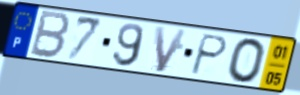7: (67, 14, 105, 64)
9: (111, 23, 146, 69)
B: (27, 9, 73, 61)
O: (226, 37, 268, 85)
P: (188, 32, 230, 77)
V: (153, 24, 190, 75)
